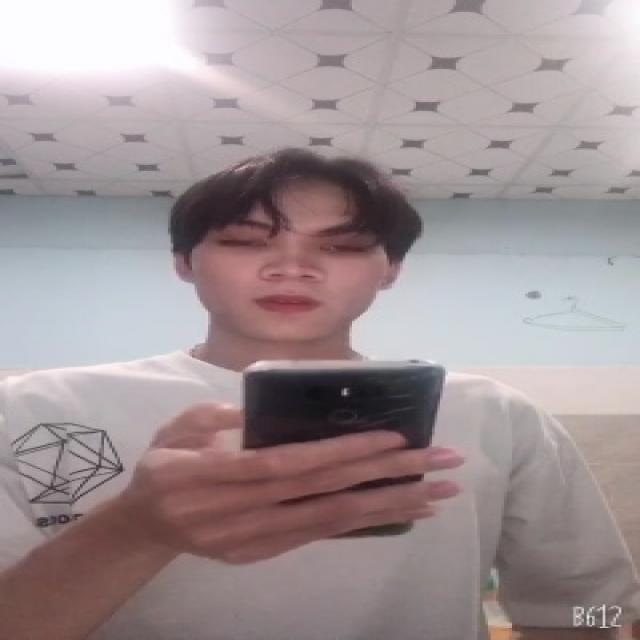Phone: (236, 358, 447, 542)
